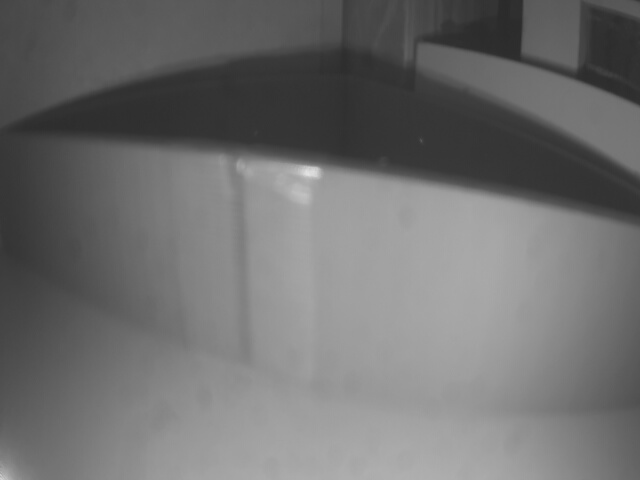Green: (2, 135, 640, 412)
